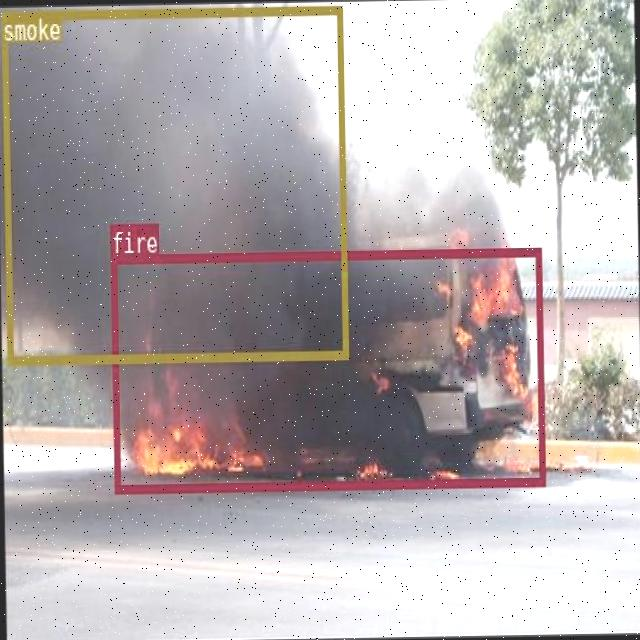fire: (109, 245, 544, 490)
smoke: (0, 5, 346, 362)
